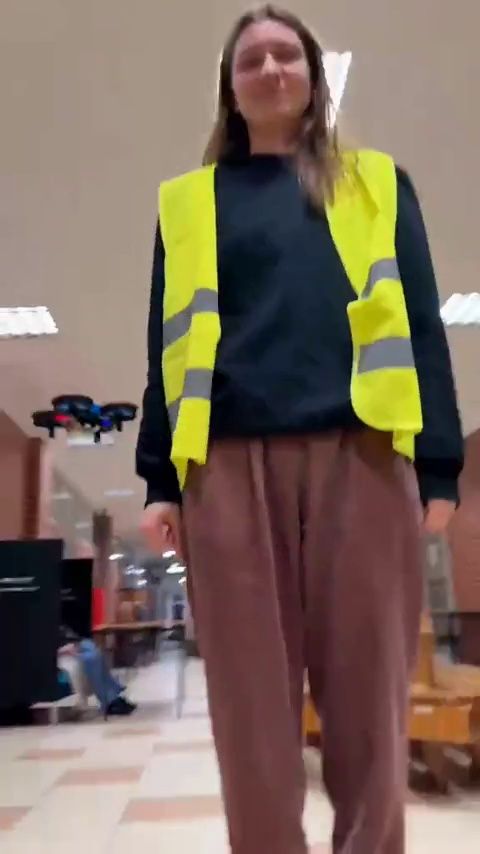drone: (26, 397, 135, 437)
vest: (135, 60, 468, 854)
